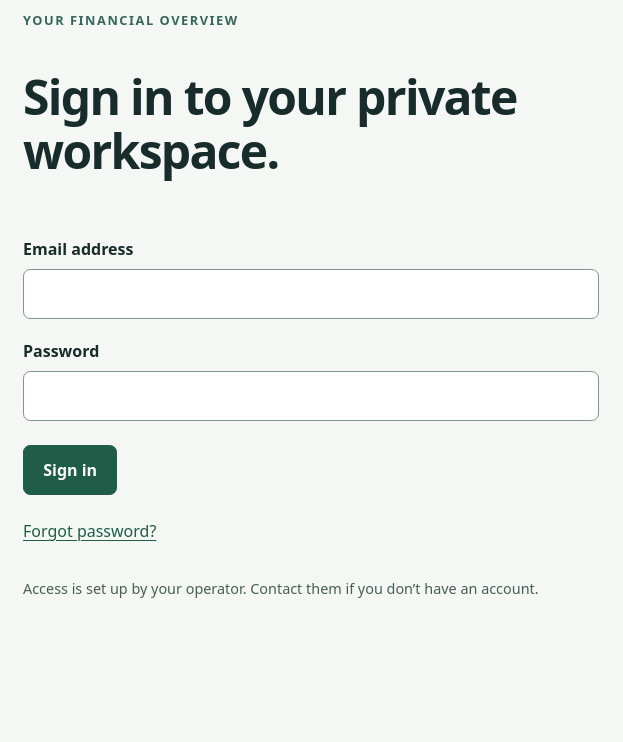
it: authentication workflows › marks declared fields and displays the correlated support reference
Type "owner@example.test" into the field labelled "Email address".
click(311, 294); type("owner@example.test")  # box [23,269,599,319]
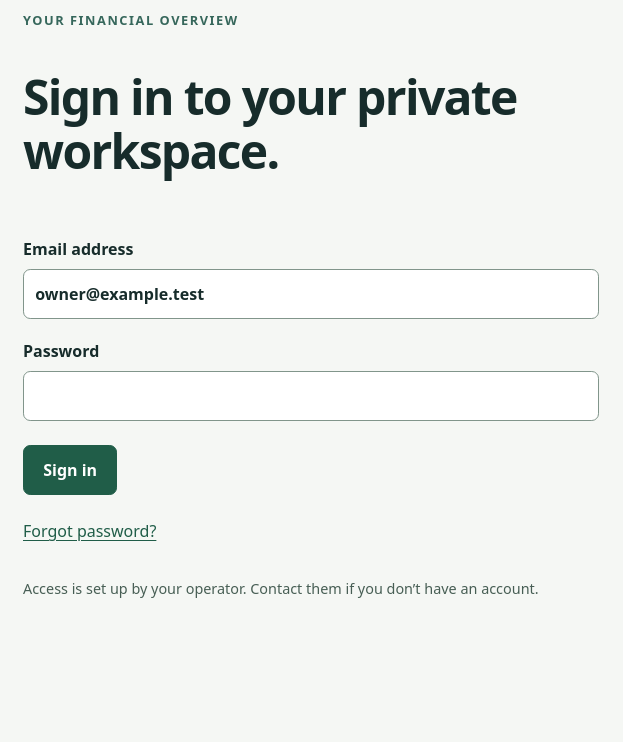
Type "submitted-password" into the password field labelled "Password".
click(311, 396); type("submitted-password")  # box [23,371,599,421]
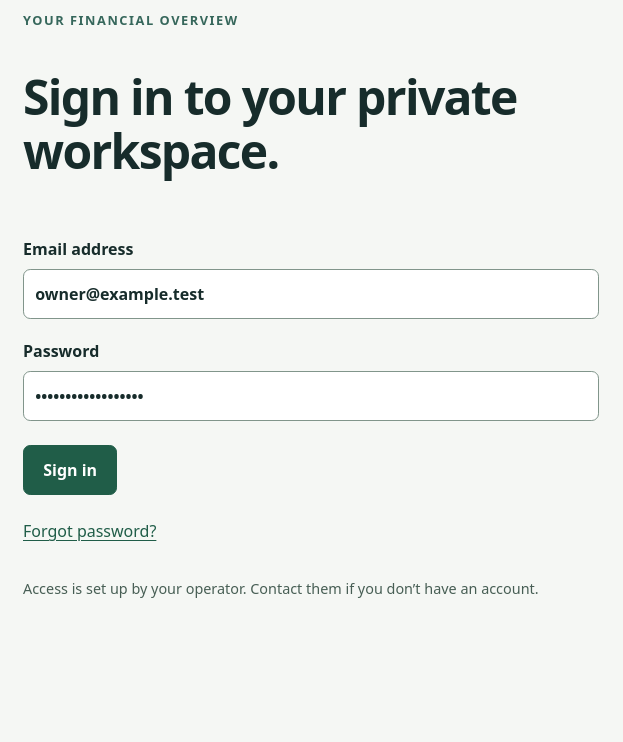
Click the button "Sign in".
click(70, 470)  # box [23,445,117,495]
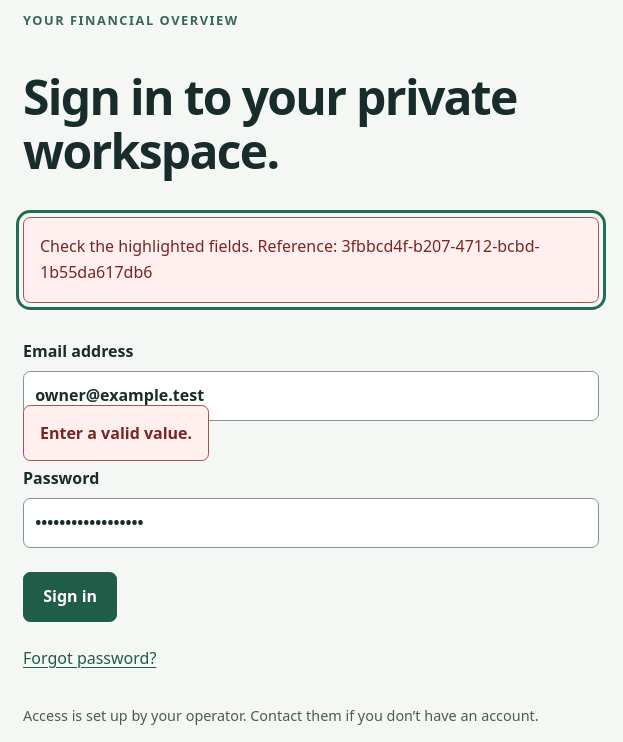
Expected: the message shows "3fbbcd4f-b207-4712-bcbd-1b55da617db6", [40,235,540,283]
